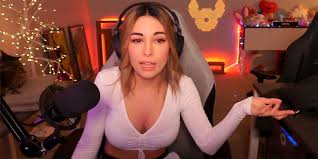person: (69, 2, 294, 158)
